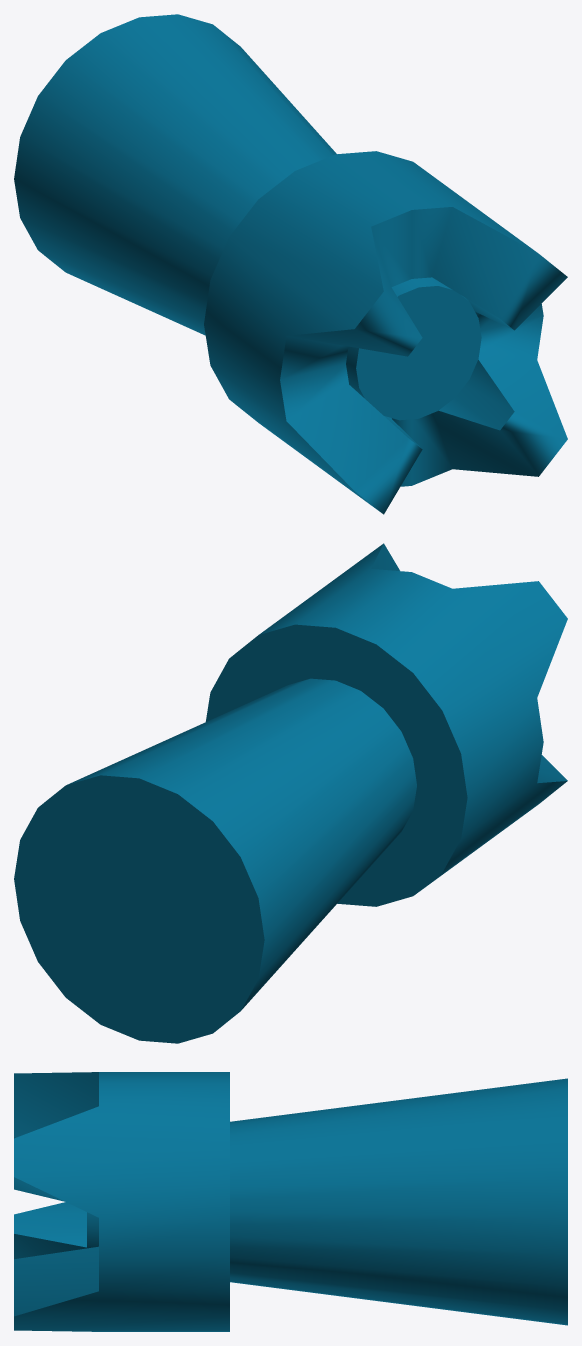
File: Tower-ARROW.obj
The picture shows the model from 3 angles, top to bottom: view 1: azimuth 30°, elevation 25°; view 2: azimuth 150°, elevation 25°; view 3: azimuth 270°, elevation 25°; orthographic projection. The views are drawn at different scales.
Parts seen in each view (by area): view 1: pCylinder2; view 2: pCylinder2; view 3: pCylinder2.
Boxes of the visible parts, <box> form: pCylinder2: <box>14,14,567,514</box>; pCylinder2: <box>14,543,567,1043</box>; pCylinder2: <box>14,1072,567,1331</box>.
Bounding box in the file's own units: 0.9667 × 0.9667 × 2.05.
